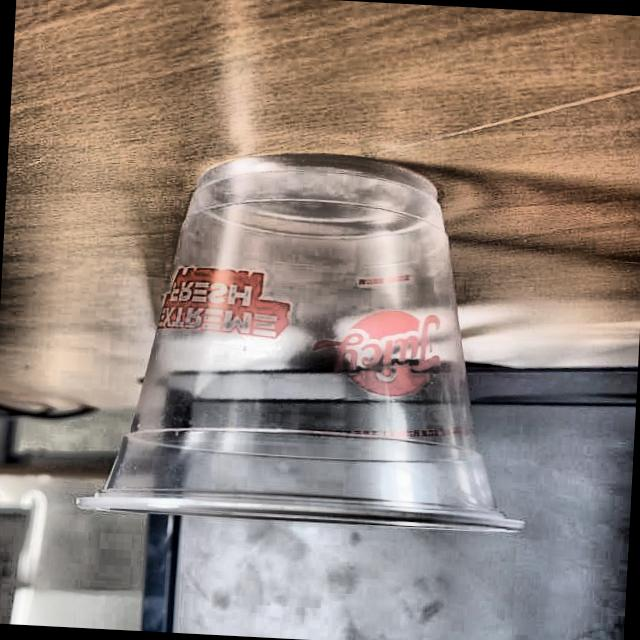plastic cup: (77, 138, 546, 538)
